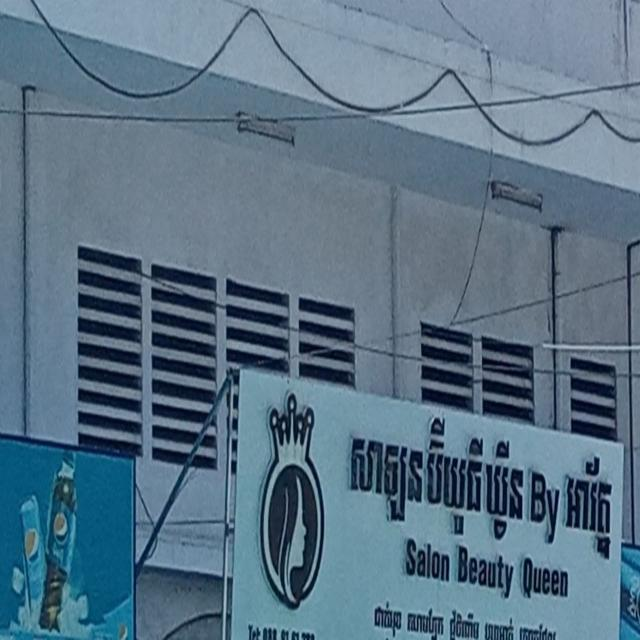Yolov11kh: (338, 396, 622, 569)
